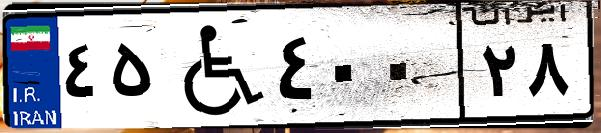0: (385, 28, 445, 110), (330, 28, 385, 110)
2: (475, 38, 525, 113)
4: (270, 28, 330, 110), (57, 26, 110, 100)
5: (110, 28, 158, 98)
8: (525, 38, 570, 115)
ژ (معلولین و جانبازان): (158, 12, 270, 120)
